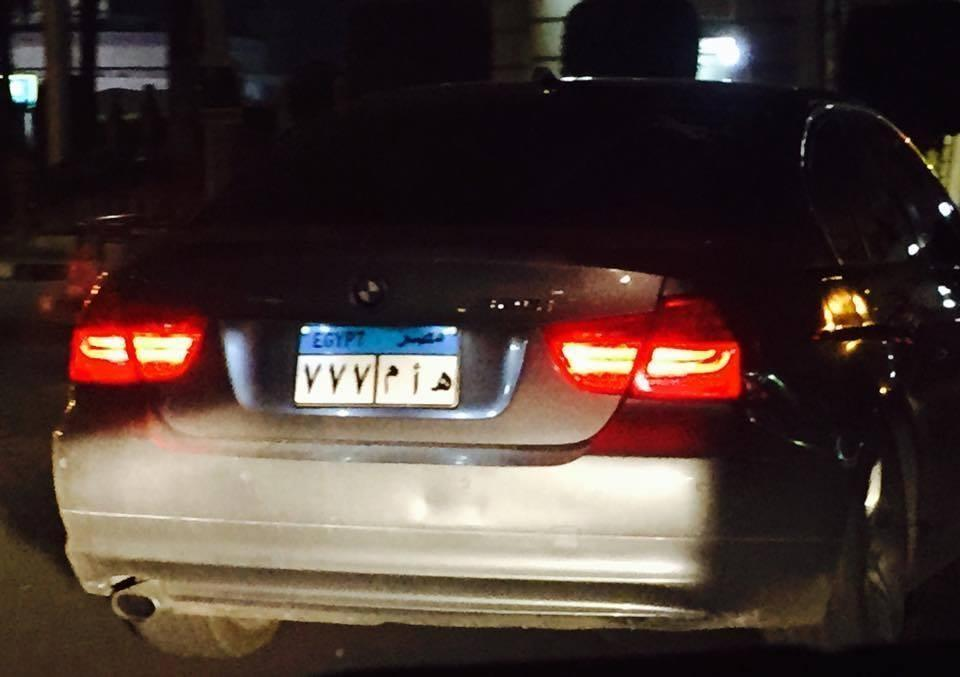7: (301, 361, 322, 395), (350, 362, 370, 395), (330, 360, 345, 394)
Heeh: (430, 367, 454, 395)
License Plate: (291, 320, 465, 412)
Meem: (381, 363, 400, 395)
alef: (410, 360, 423, 397)
car: (64, 83, 960, 642)
